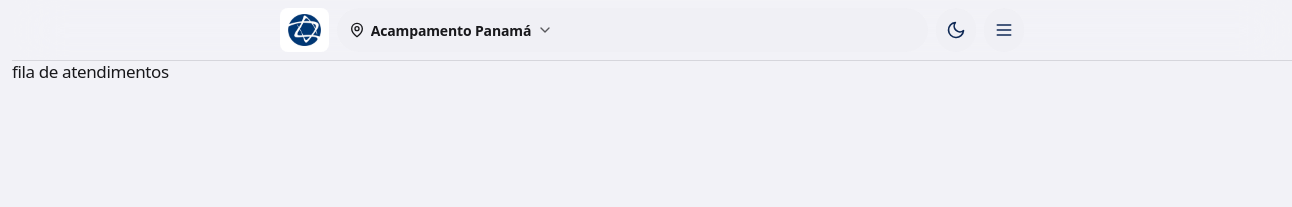
Test: Troca de missão pelo cabeçalho › fechar sem escolher não mexe na base
The width and height of the screenshot is (1292, 207).
expect the text "fila de atendimentos" is shown: met, box x1=12 y1=60 x2=169 y2=83
Click the button with aria-label "Trocar base" at (451, 30), box x1=337 y1=8 x2=928 y2=52
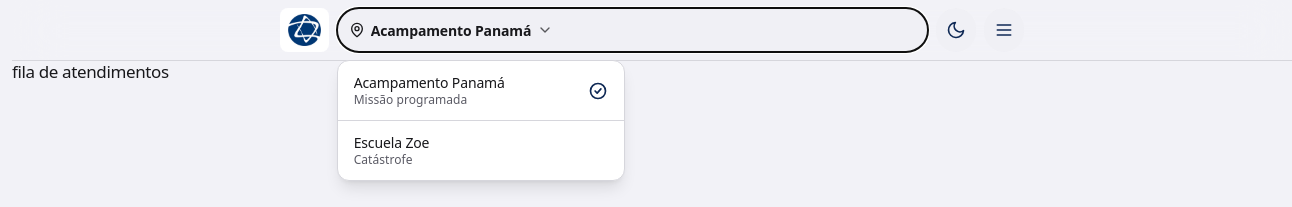
expect the menu is shown: met, box x1=337 y1=60 x2=625 y2=181
Press Escape
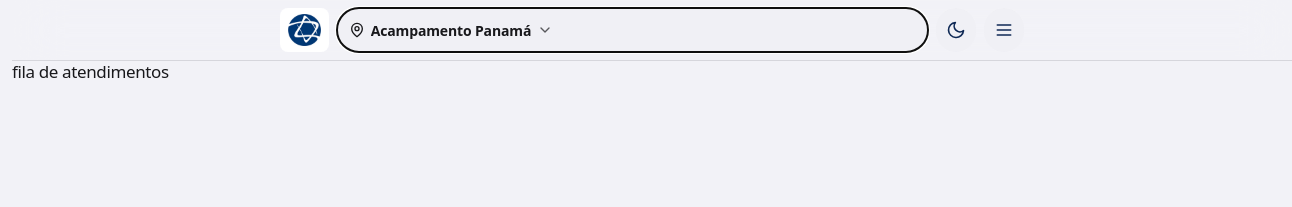
expect the button with aria-label "Trocar base" reads "Acampamento Panamá": met, box x1=337 y1=8 x2=928 y2=52
expect the menu is gone: met
